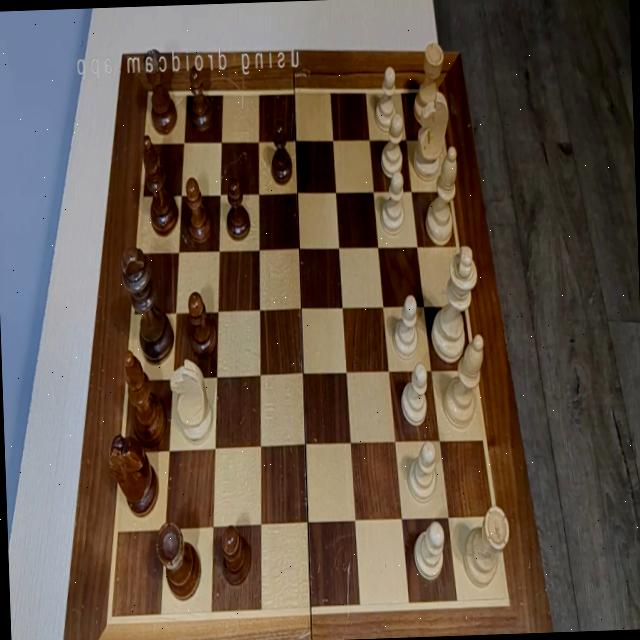black_bishop: (122, 349, 167, 449), (141, 134, 179, 235)
black_king: (121, 245, 176, 362)
black_knight: (108, 434, 160, 516)
black_pawn: (183, 175, 213, 246), (186, 291, 216, 358), (218, 524, 250, 586), (188, 64, 214, 132), (224, 176, 250, 240), (270, 119, 292, 183)
black_rook: (155, 520, 201, 599), (144, 48, 178, 134)
white_bishop: (440, 334, 486, 429), (422, 145, 460, 246)
white_king: (428, 245, 479, 362)
white_knight: (168, 357, 213, 442), (410, 91, 450, 182)
white_pawn: (412, 520, 446, 582), (406, 439, 438, 501), (399, 362, 429, 427), (392, 292, 420, 358), (378, 169, 406, 234), (378, 112, 404, 180), (373, 66, 397, 132)
white_rook: (463, 504, 511, 586), (411, 40, 448, 128)
